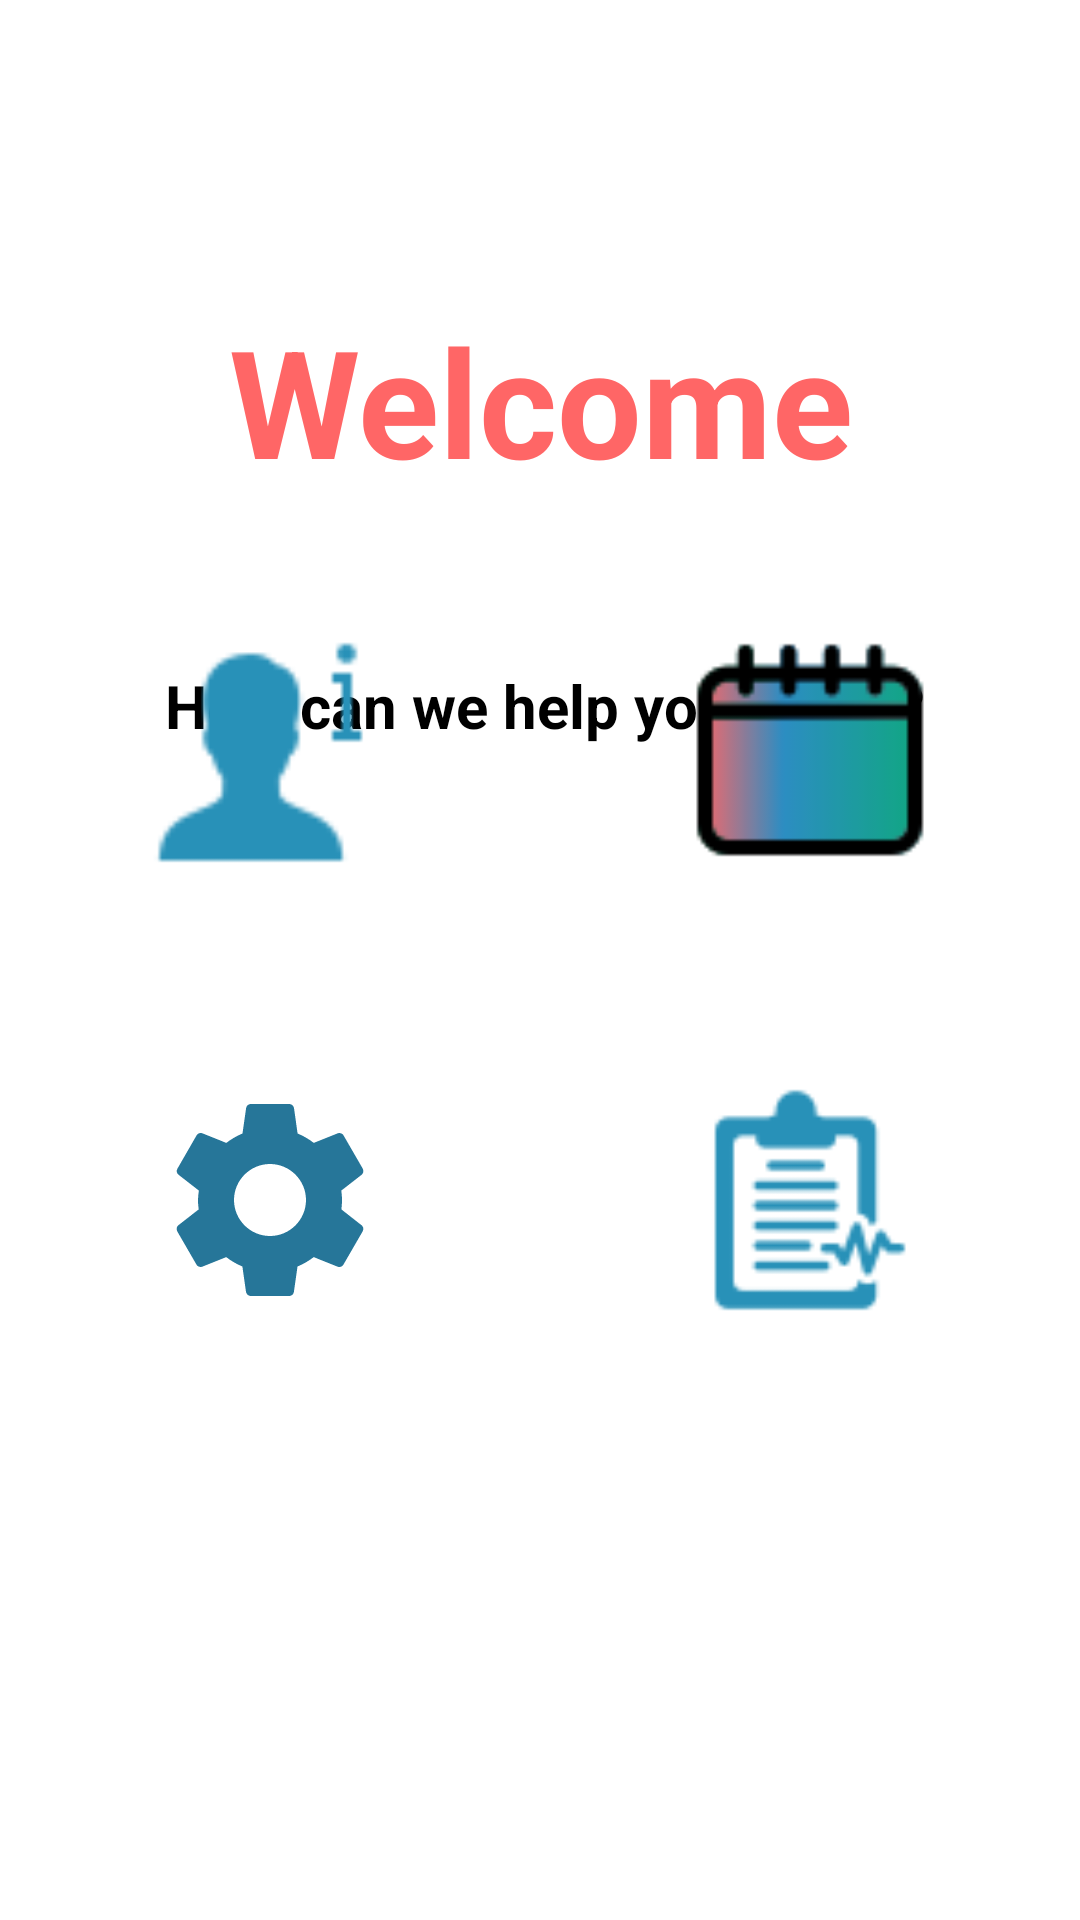

Where icons sit on this 1080×1920 app screen, as (x1, y1, x2, y2):
appointment: (690, 643, 924, 857)
medical records: (714, 1090, 906, 1310)
settings: (176, 1104, 364, 1296)
